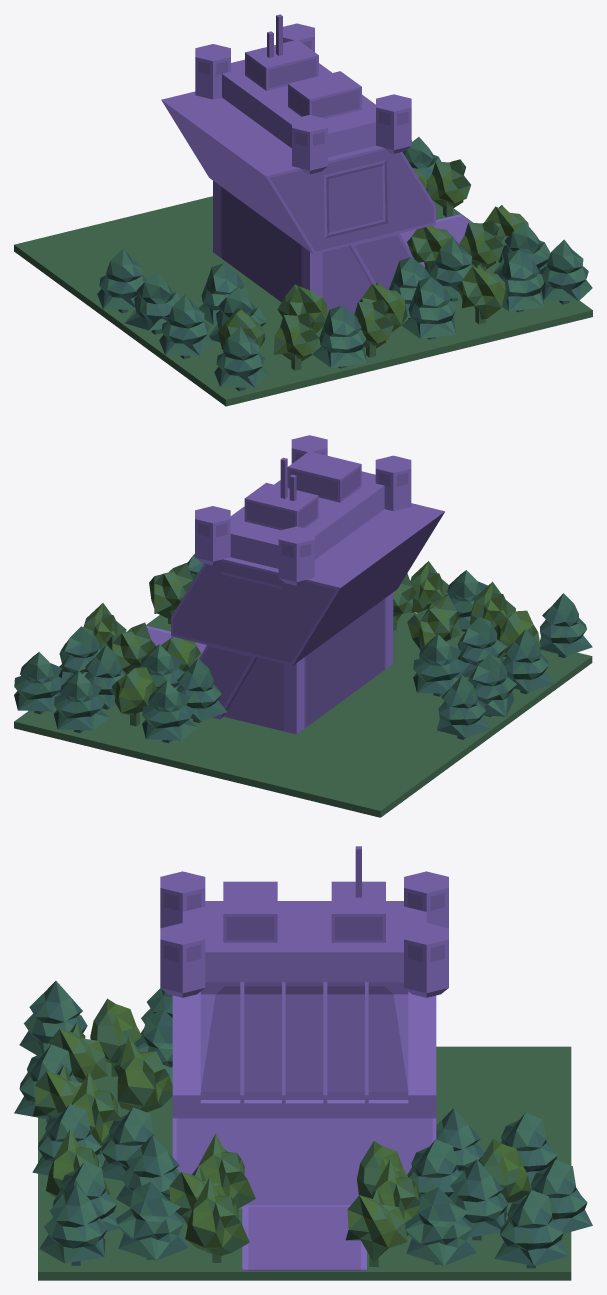
File: ResearchCenter.fbx
The picture shows the model from 3 angles, top to bottom: view 1: azimuth 30°, elevation 25°; view 2: azimuth 150°, elevation 25°; view 3: azimuth 270°, elevation 25°; orthographic projection. The views are drawn at different scales.
Visible parts, largest first — view 1: ResearchCenter(Ground), ResearchCenter; view 2: ResearchCenter(Ground), ResearchCenter; view 3: ResearchCenter(Ground), ResearchCenter.
Boxes of the visible parts, x1,y1,x2,y2 form: ResearchCenter(Ground): (14,137,592,406); ResearchCenter: (161,14,435,315); ResearchCenter(Ground): (14,554,592,817); ResearchCenter: (171,435,444,734); ResearchCenter(Ground): (14,981,592,1280); ResearchCenter: (160,846,448,1208).
Size of the model in its own units: 187 by 115 by 189.
